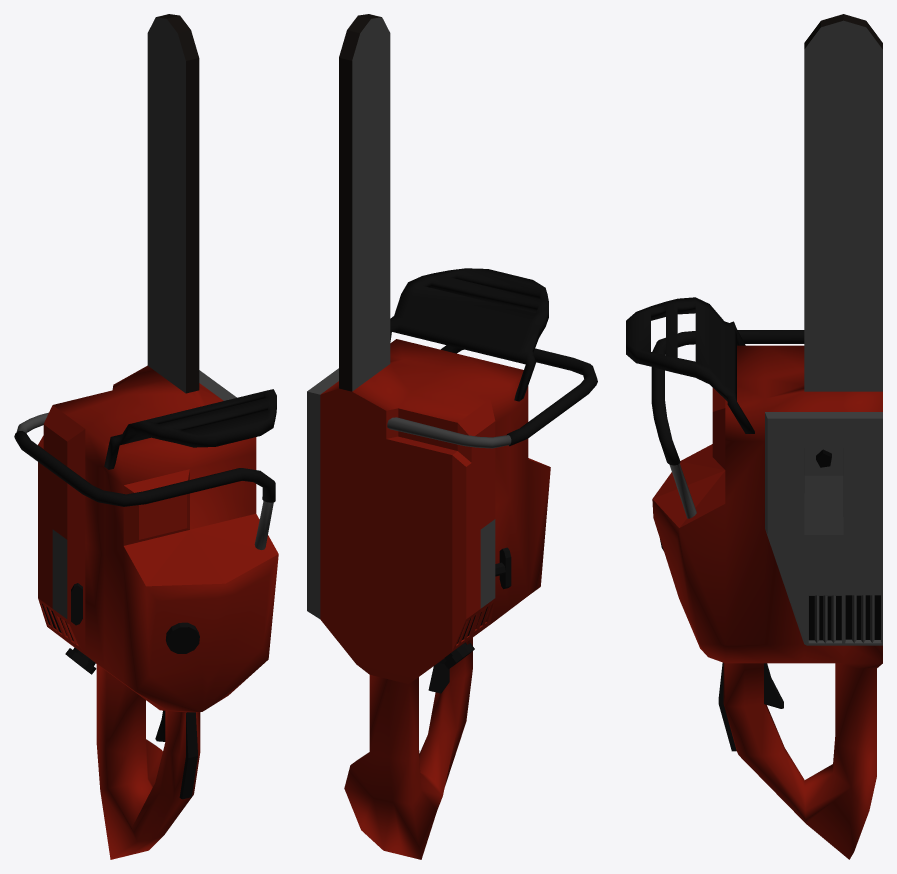
File: chainsaw.obj
3 renders of one model, left to right at view 1: azimuth 30°, elevation 25°; view 2: azimuth 150°, elevation 25°; view 3: azimuth 270°, elevation 25°, orthographic. The views are drawn at different scales.
Bounding box in the file's own units: 8.41 × 33.66 × 9.18.
